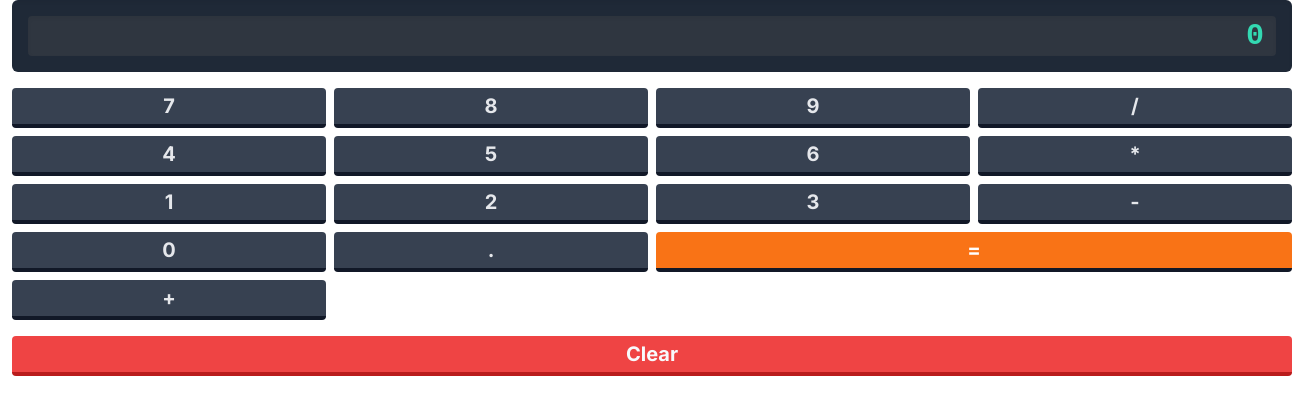
Test case: NumbersCalculator › UI Interactions › Button Interactions › should append pressed button to non-zero value
This screenshot has width=1304, height=393.
Step 1. Click the button "1" → point(169, 204), box top-left (12, 184), bottom-right (326, 224)
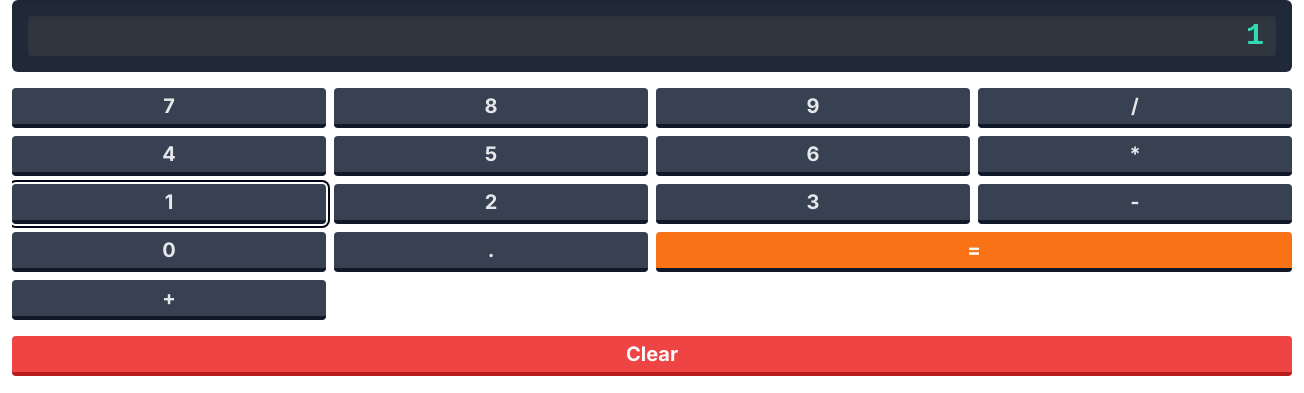
Step 2. Click the button "2" → point(491, 204), box top-left (334, 184), bottom-right (648, 224)
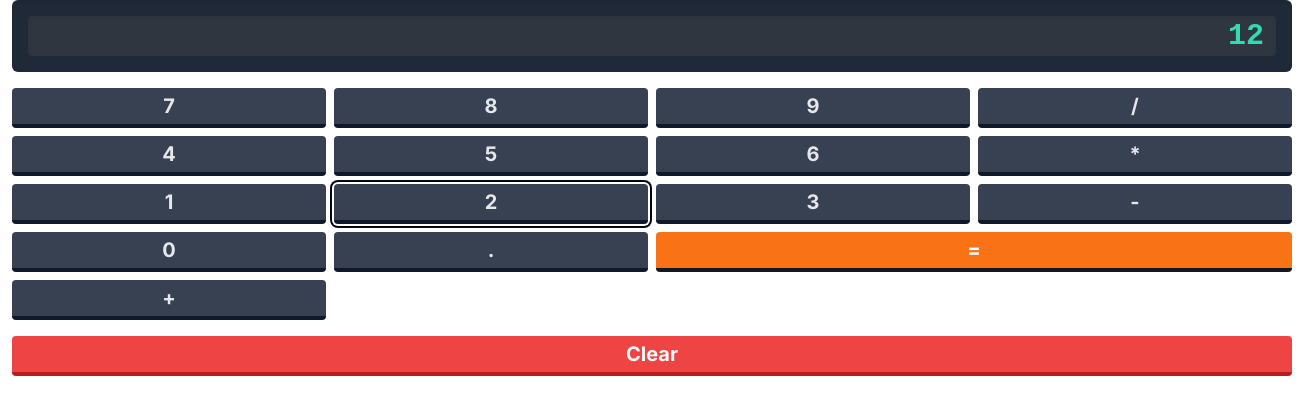
Check: the field holds "12", box top-left (28, 16), bottom-right (1276, 56)
